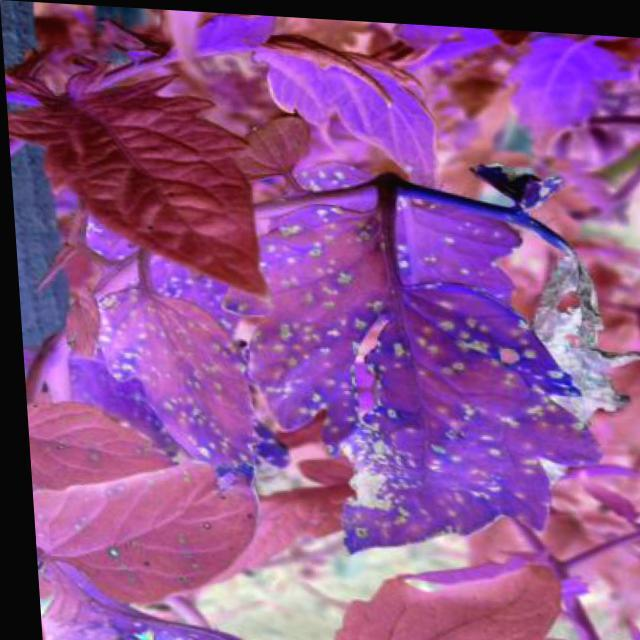Tomato Septoria spot leaf: (248, 172, 607, 568)
